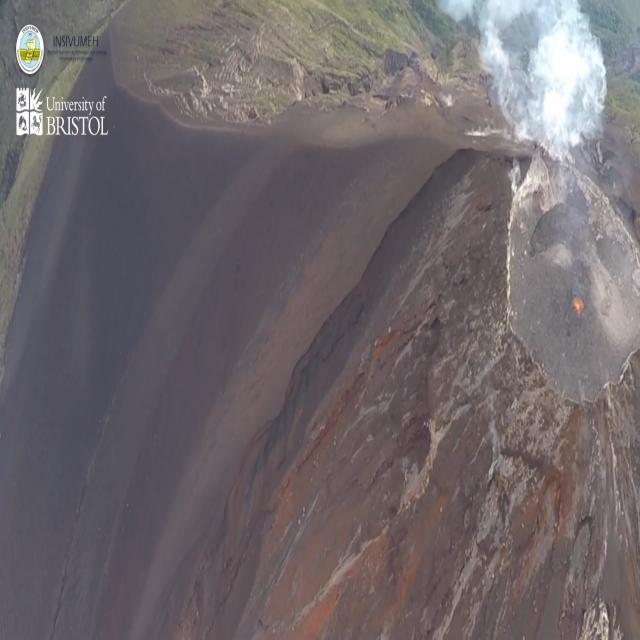Plume: (434, 1, 618, 168)
Summit: (460, 140, 640, 452)
